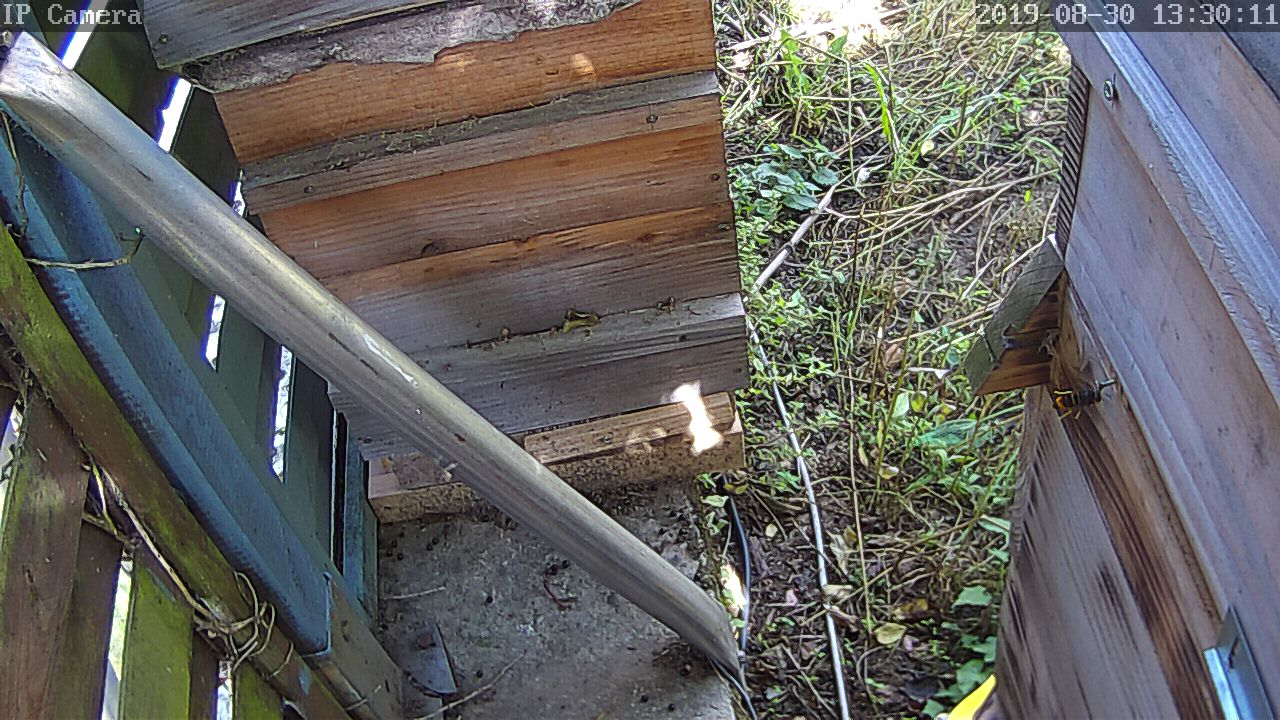hornet: (27, 0, 1250, 720)
